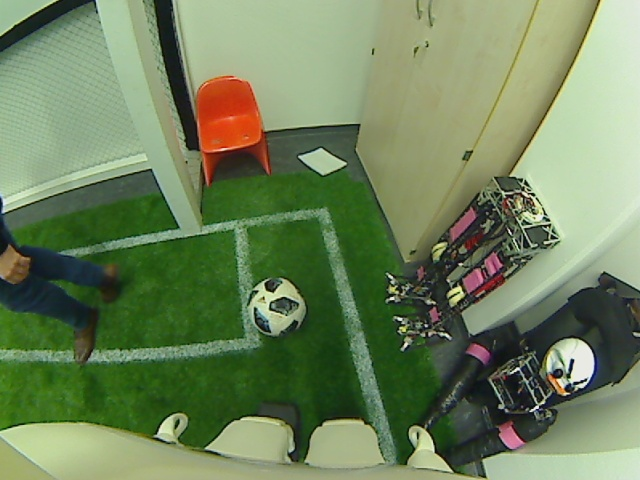ball: (246, 275, 307, 342)
